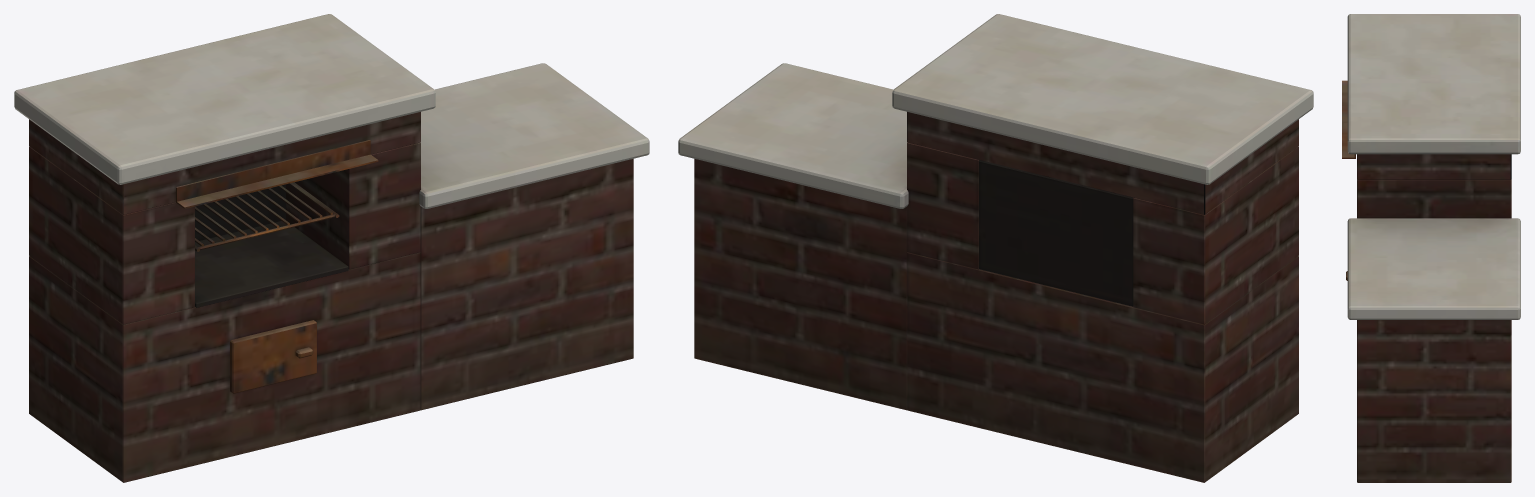
The model's file is bbq_brick-low.glb.
3 renders of one model, left to right at view 1: azimuth 30°, elevation 25°; view 2: azimuth 150°, elevation 25°; view 3: azimuth 270°, elevation 25°, orthographic. The views are drawn at different scales.
Parts seen in each view (by area): view 1: bbq_brick; view 2: bbq_brick; view 3: bbq_brick.
Part boxes in pixels (x1,y1,x2,y2): bbq_brick: [14, 14, 649, 482]; bbq_brick: [678, 14, 1313, 482]; bbq_brick: [1342, 14, 1520, 482].
Bounding box in the file's own units: 2.14 × 1.24 × 0.764.
2 materials, 2 textured.
